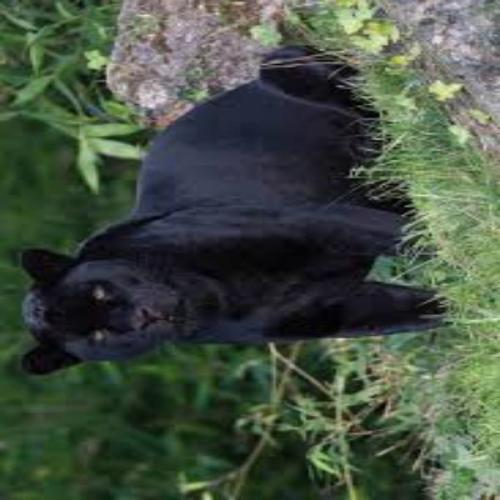panther-endangered: (17, 56, 434, 358)
